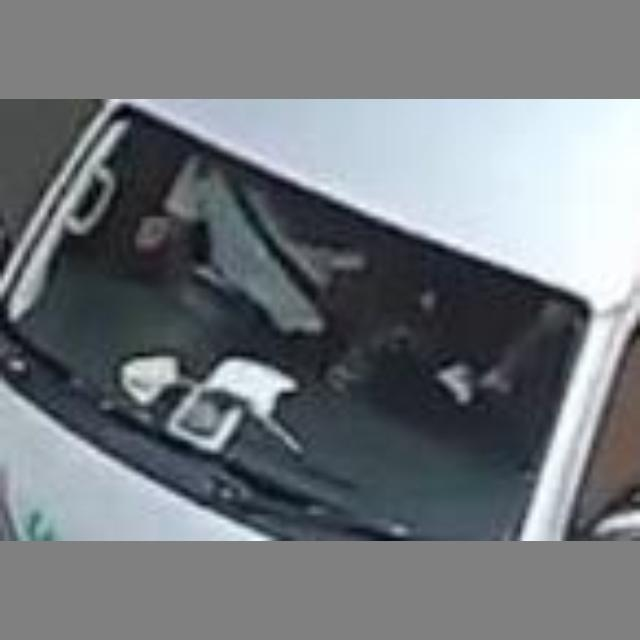pakai: (127, 130, 351, 331)
